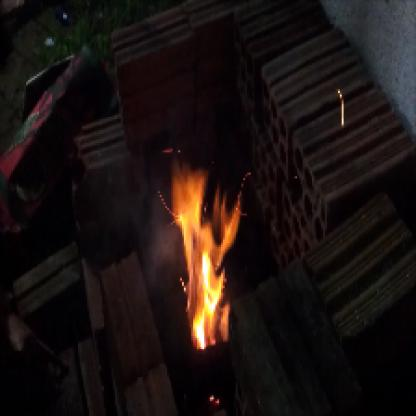Fire: (164, 156, 244, 353)
